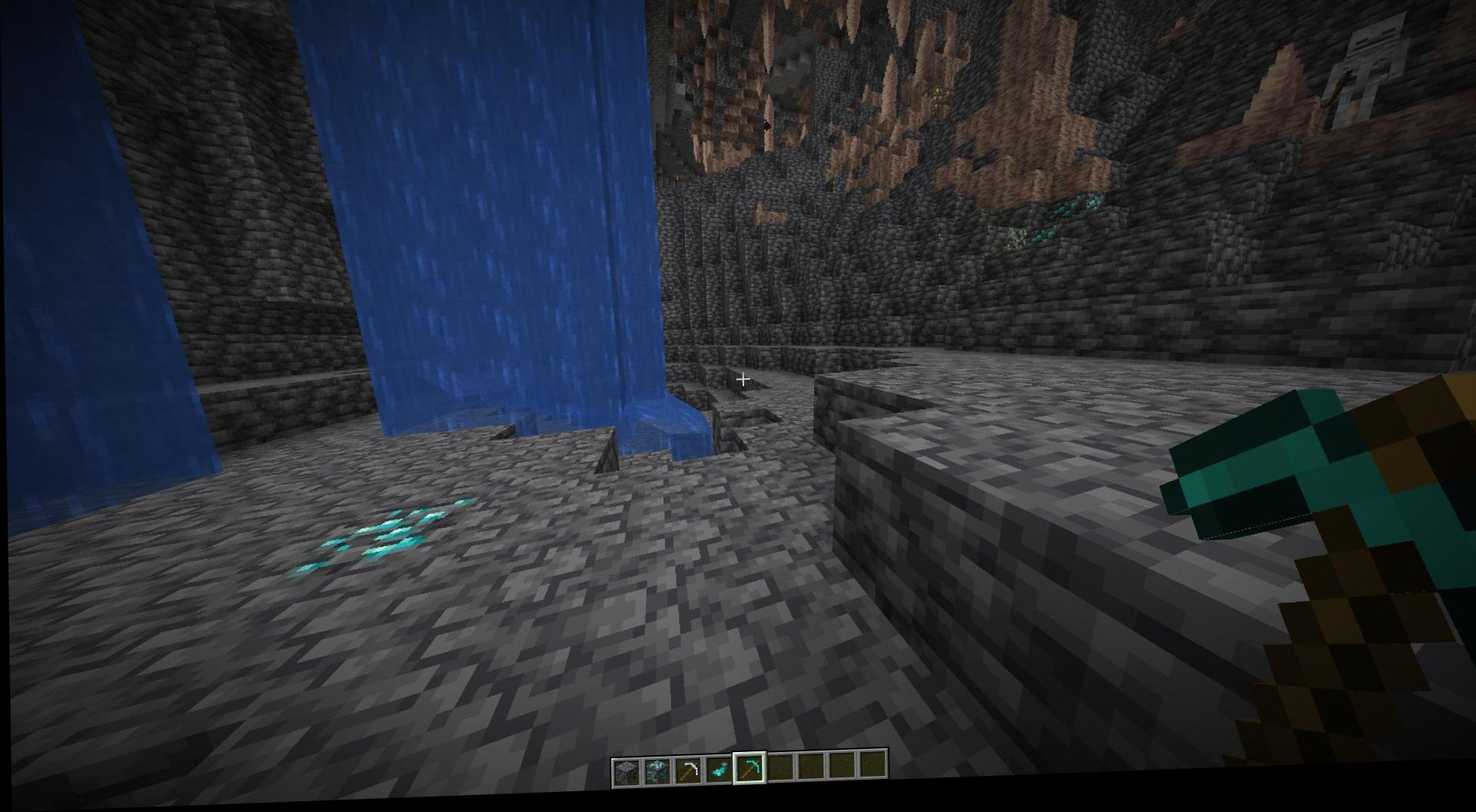diamond ore: (292, 499, 465, 571), (1047, 202, 1083, 226), (1031, 235, 1064, 251), (1086, 202, 1104, 222)
gold ore: (925, 91, 951, 116)
